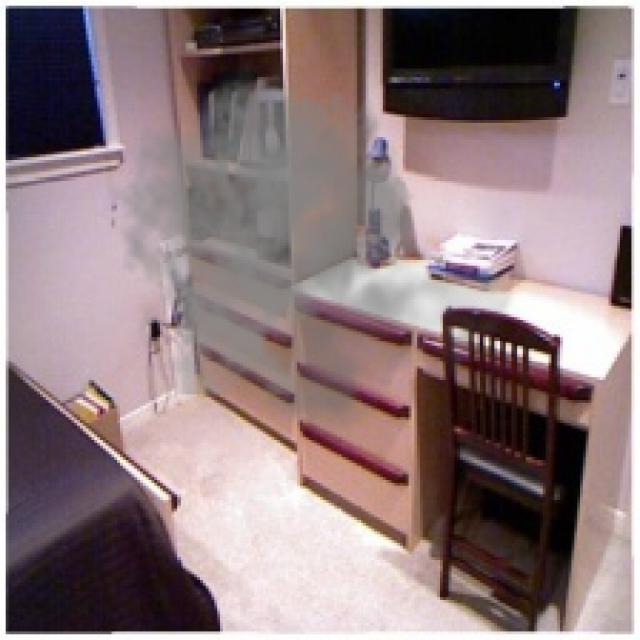smoke: (111, 51, 520, 443)
